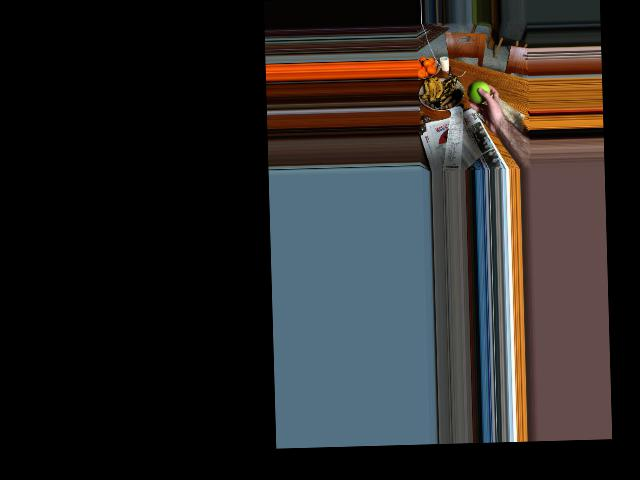apple: (467, 79, 487, 106)
